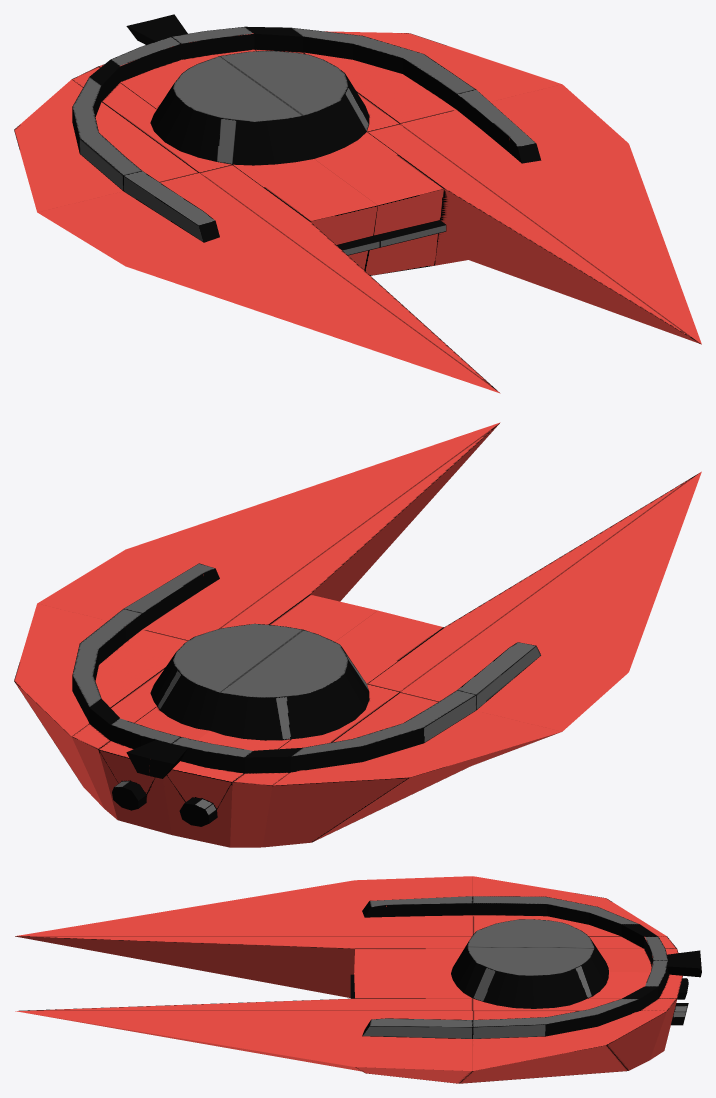
Rendered from enemyship_v1.glb.
3 views of the same model, one above another, from view 1: azimuth 30°, elevation 25°; view 2: azimuth 150°, elevation 25°; view 3: azimuth 270°, elevation 25° (orthographic). The views are drawn at different scales.
Visible parts, largest first — view 1: Cube; view 2: Cube; view 3: Cube.
Part boxes in pixels (x1,y1,x2,y2): Cube: (14, 14, 701, 393); Cube: (14, 422, 701, 847); Cube: (15, 876, 701, 1083).
Bounding box in the file's own units: 3.92 × 0.8349 × 5.84.
Materials: 1 (1 with a texture image).
